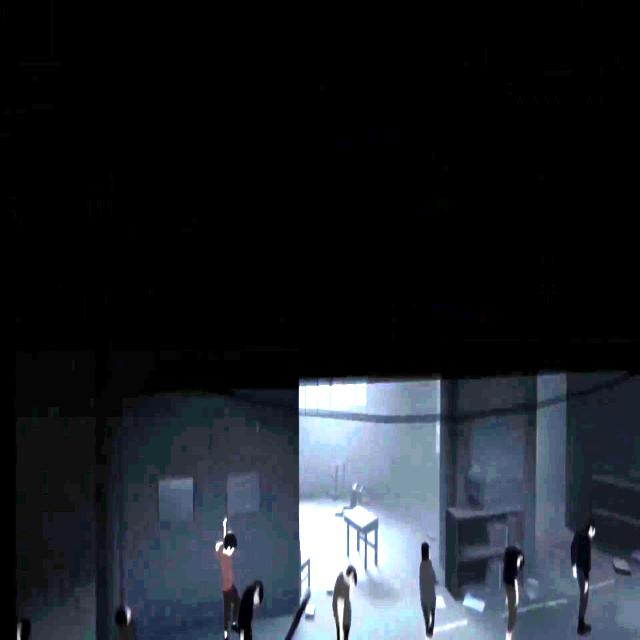boy: (216, 526, 258, 640)
zombie: (571, 520, 595, 634), (502, 548, 523, 640), (233, 580, 264, 640), (418, 541, 437, 638), (332, 566, 356, 640), (111, 600, 136, 640), (5, 615, 36, 640)
